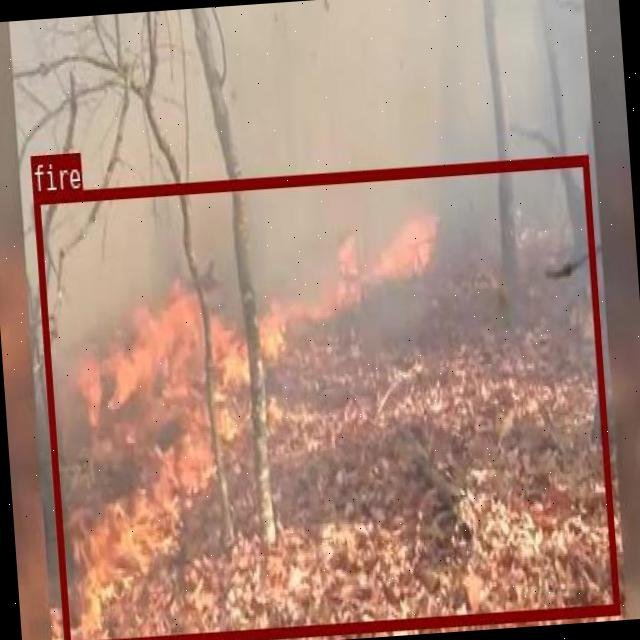fire: (31, 154, 618, 640)
